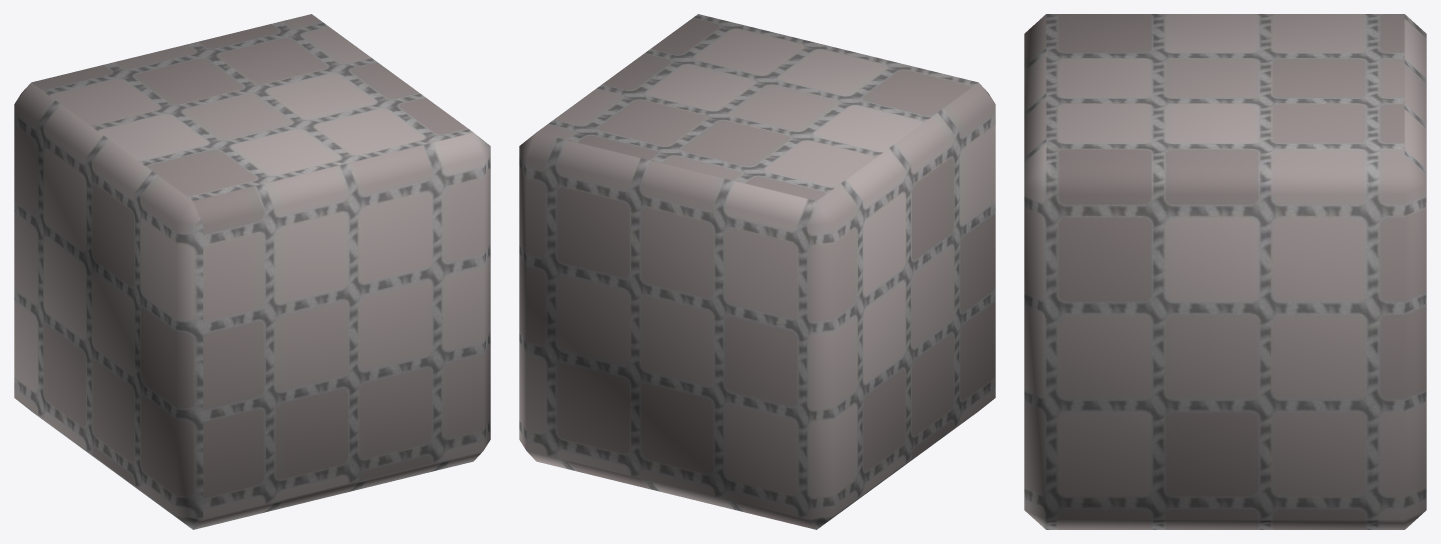
Rendered from zzz.glb.
3 renders of one model, left to right at view 1: azimuth 30°, elevation 25°; view 2: azimuth 150°, elevation 25°; view 3: azimuth 270°, elevation 25°, orthographic. The views are drawn at different scales.
Parts seen in each view (by area): view 1: Cube; view 2: Cube; view 3: Cube.
Part boxes in pixels (box(x1,y1,x2,y2)): Cube: box(14, 14, 490, 529); Cube: box(519, 14, 995, 529); Cube: box(1024, 14, 1426, 529).
Bounding box in the file's own units: 2 × 2 × 2.
Materials: 1 (1 with a texture image).
